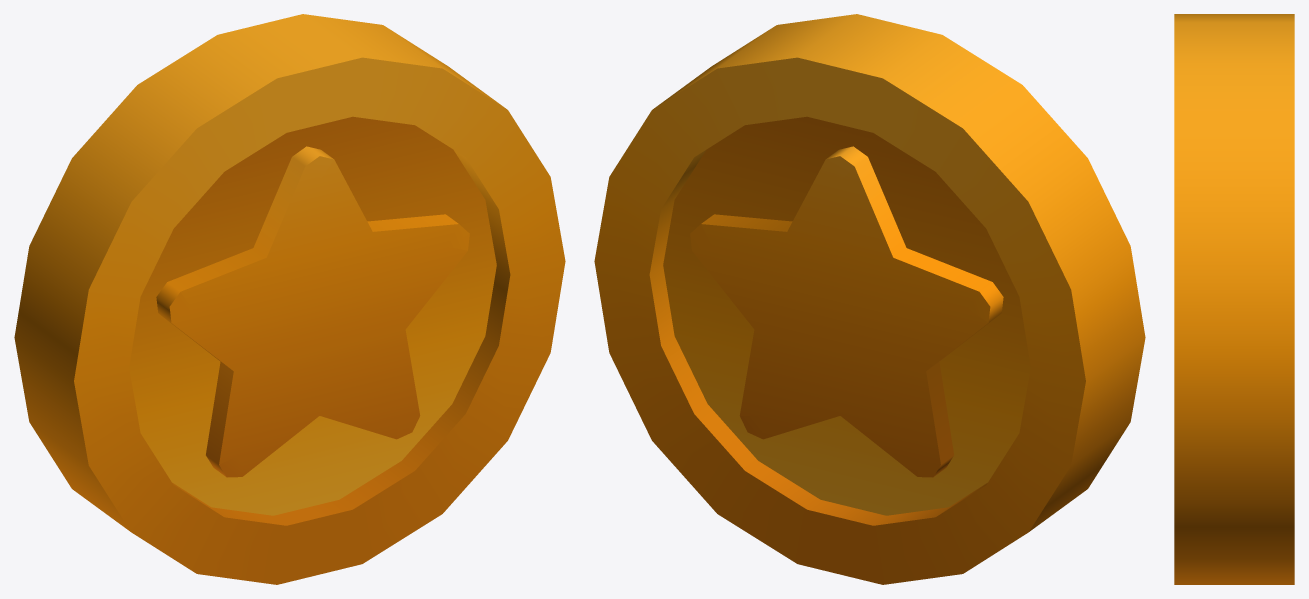
File: Collectable_Coin_02.fbx
3 renders of one model, left to right at view 1: azimuth 30°, elevation 25°; view 2: azimuth 150°, elevation 25°; view 3: azimuth 270°, elevation 25°, orthographic.
Parts seen in each view (by area): view 1: Collectable_Coin_02; view 2: Collectable_Coin_02; view 3: Collectable_Coin_02.
Boxes of the visible parts, x1,y1,x2,y2 form: Collectable_Coin_02: (14,14,565,584); Collectable_Coin_02: (594,14,1145,584); Collectable_Coin_02: (1174,14,1294,584).
Size of the model in its own units: 79.7 by 78.49 by 16.71.
